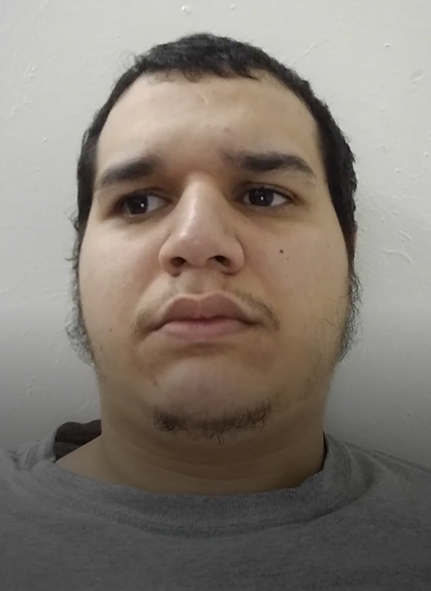Not Sleeping: (75, 155, 338, 237)
